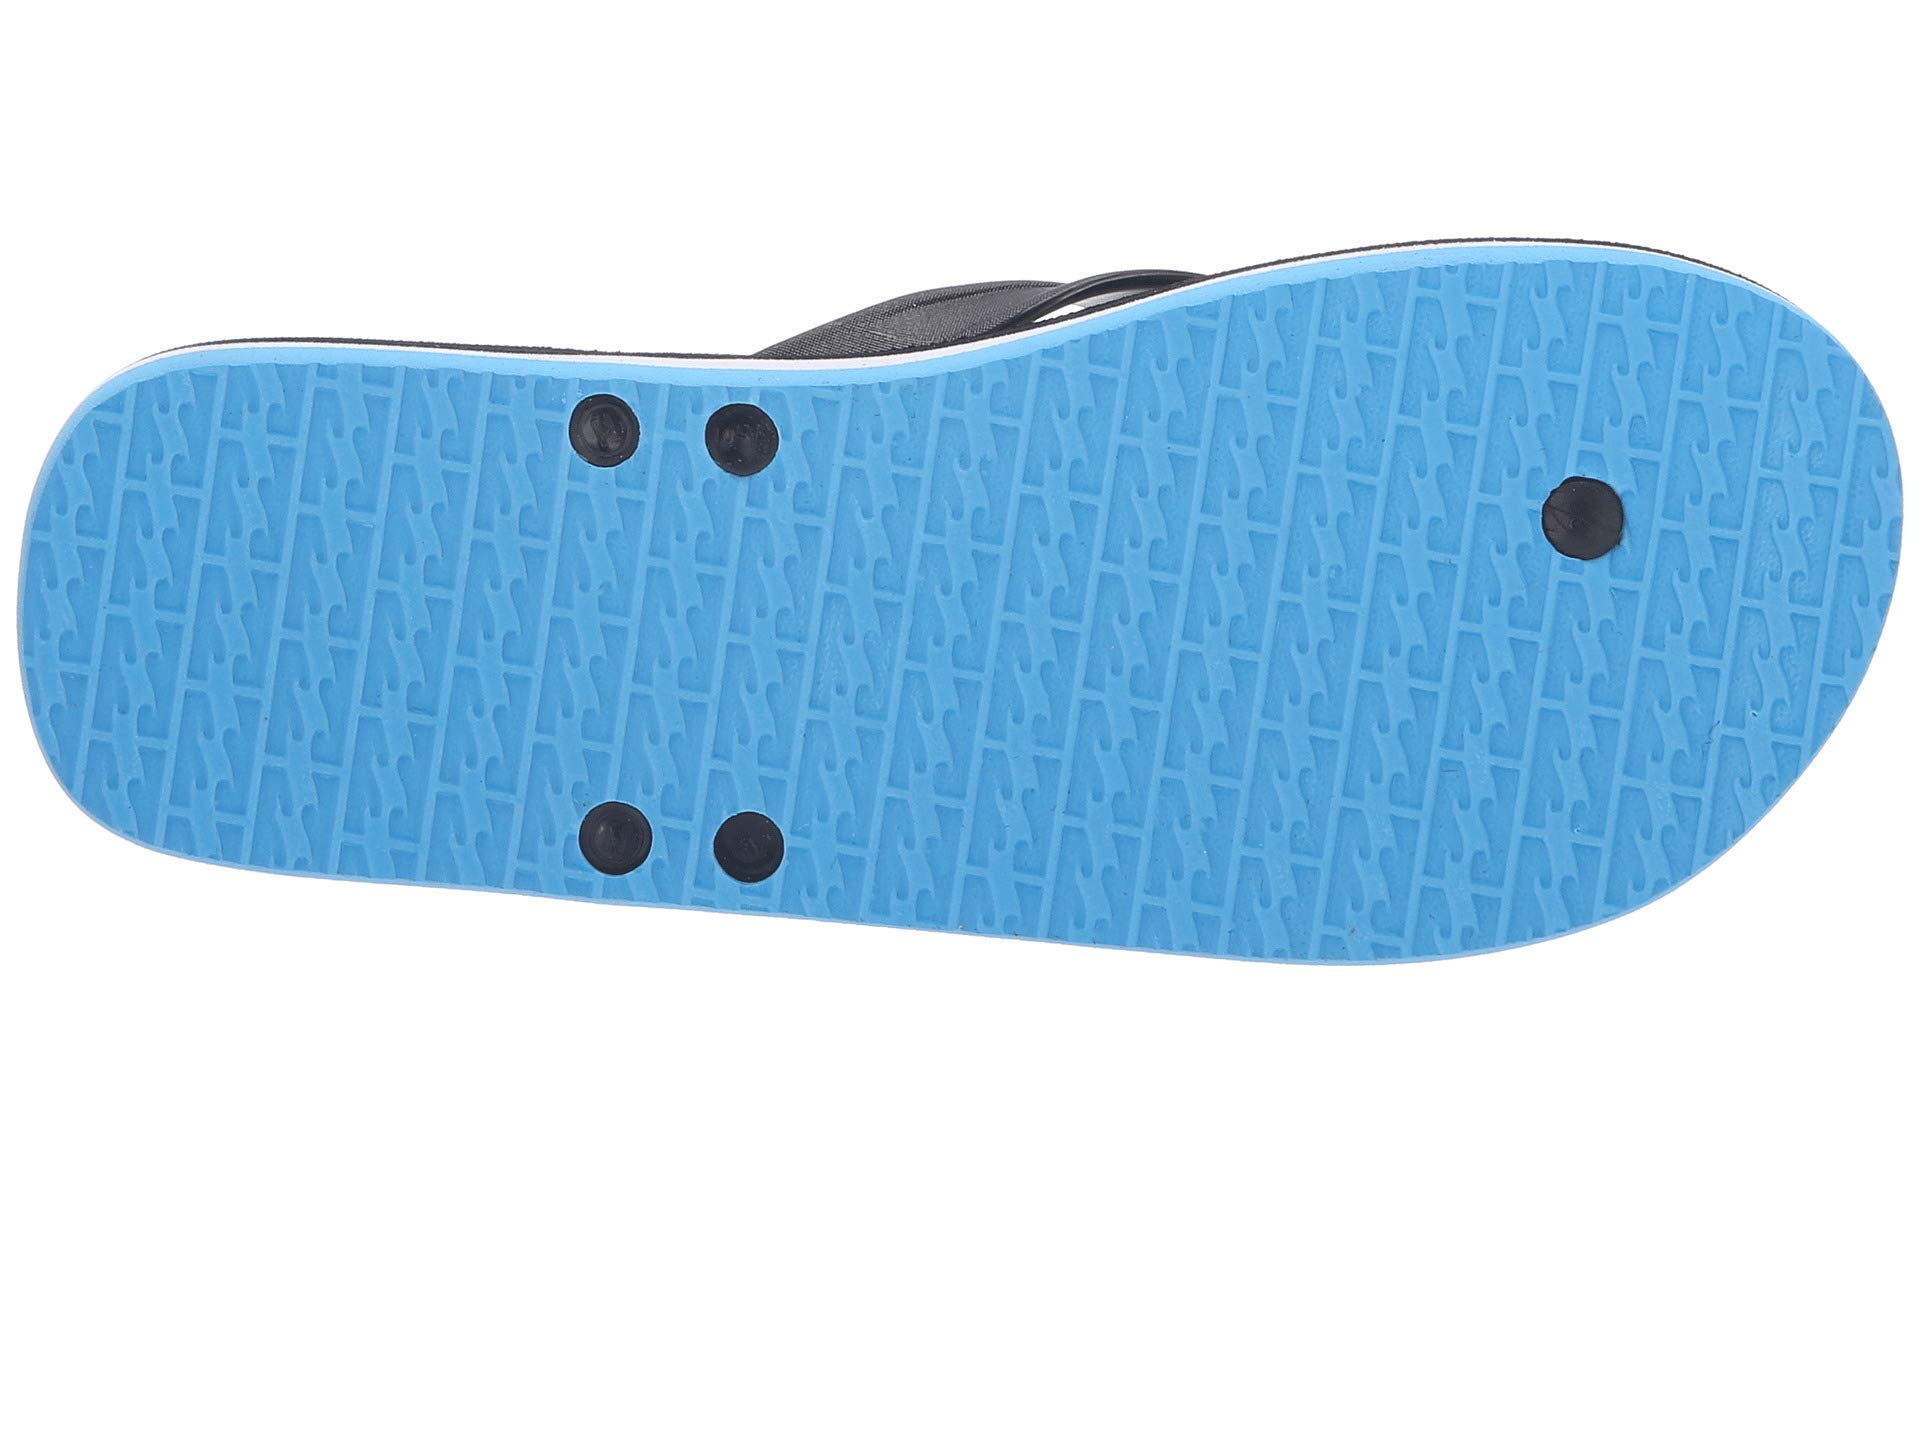chevron: (762, 490, 1158, 855)
circle: (1519, 452, 1677, 622)
line: (1519, 452, 1677, 622)
quad: (762, 490, 1158, 855), (1519, 452, 1677, 622)
